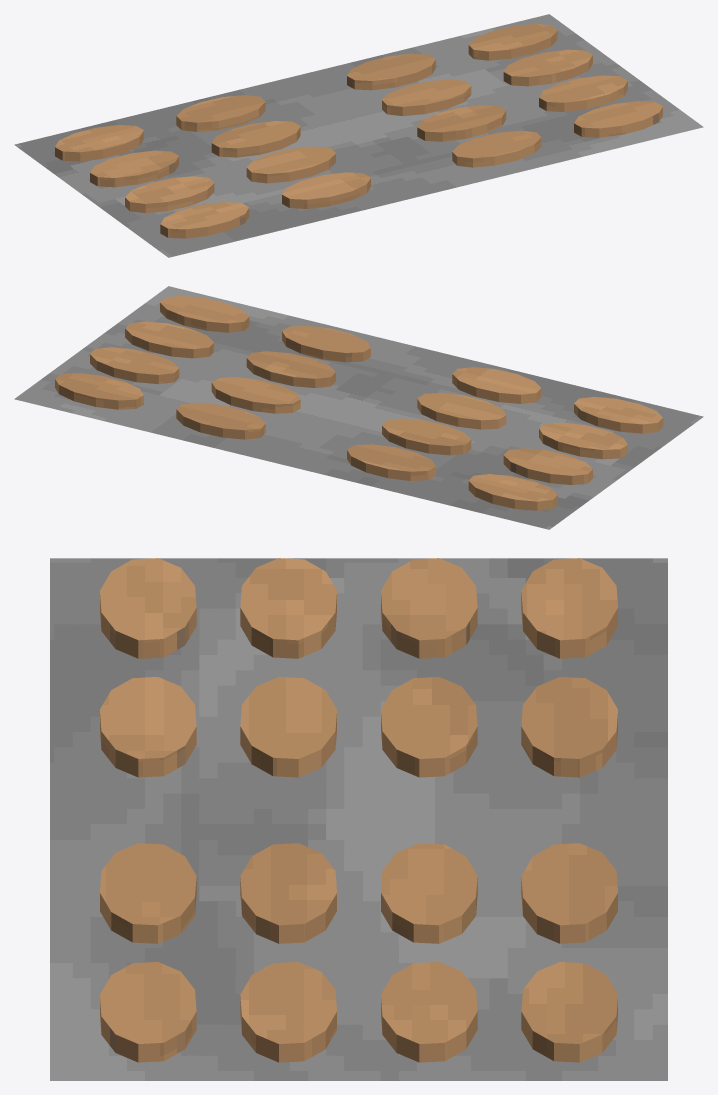
The model's file is Medicine_02.obj.
3 views of the same model, one above another, from view 1: azimuth 30°, elevation 25°; view 2: azimuth 150°, elevation 25°; view 3: azimuth 270°, elevation 25° (orthographic). The views are drawn at different scales.
Visible parts, largest first — view 1: Medicine(tablets); view 2: Medicine(tablets); view 3: Medicine(tablets).
Boxes of the visible parts, x1,y1,x2,y2 form: Medicine(tablets): (14, 14, 703, 257); Medicine(tablets): (14, 286, 703, 529); Medicine(tablets): (50, 558, 667, 1080).
Bounding box in the file's own units: 2.02 × 0.0333 × 1.01.
